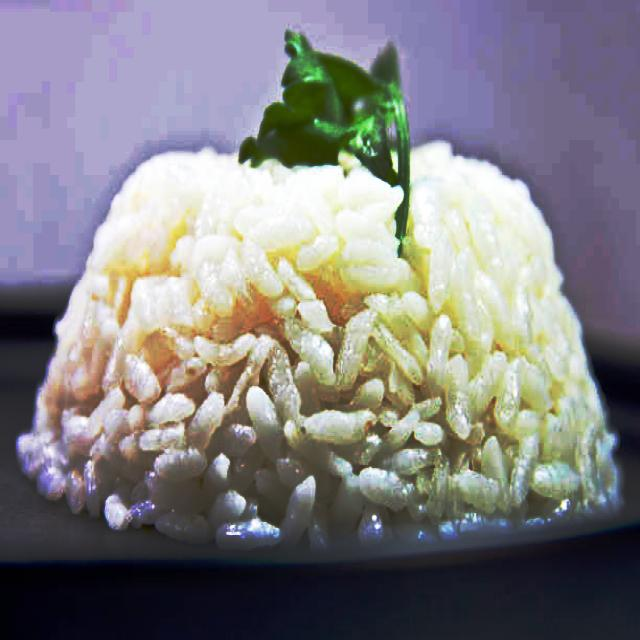rice: (14, 142, 626, 552)
